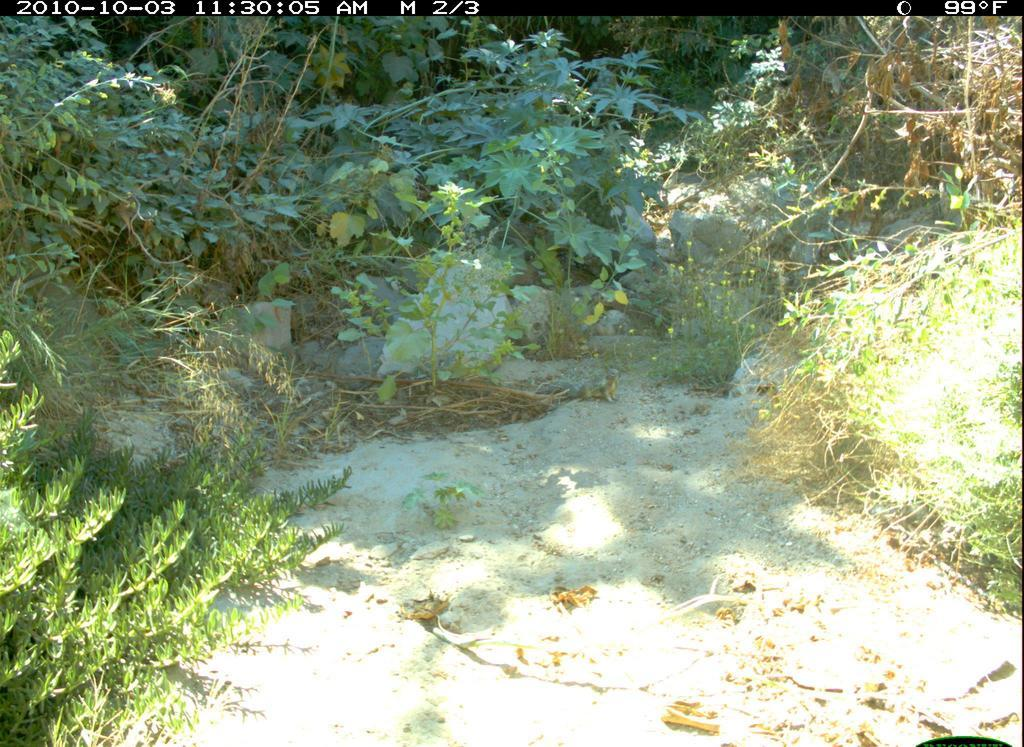squirrel: (543, 364, 627, 406)
